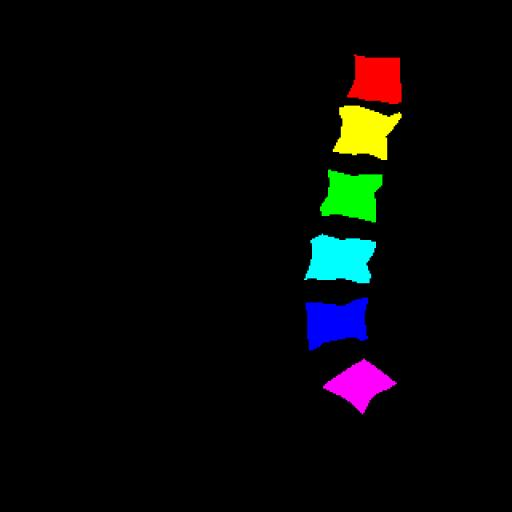L1: (347, 55, 402, 104)
L2: (333, 105, 401, 160)
L3: (320, 170, 382, 222)
L4: (305, 234, 376, 283)
L5: (306, 298, 368, 350)
S1: (323, 359, 396, 414)
